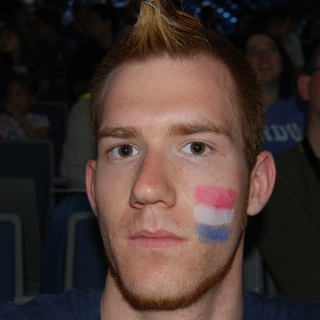eye: (173, 138, 219, 162), (101, 140, 148, 163)
